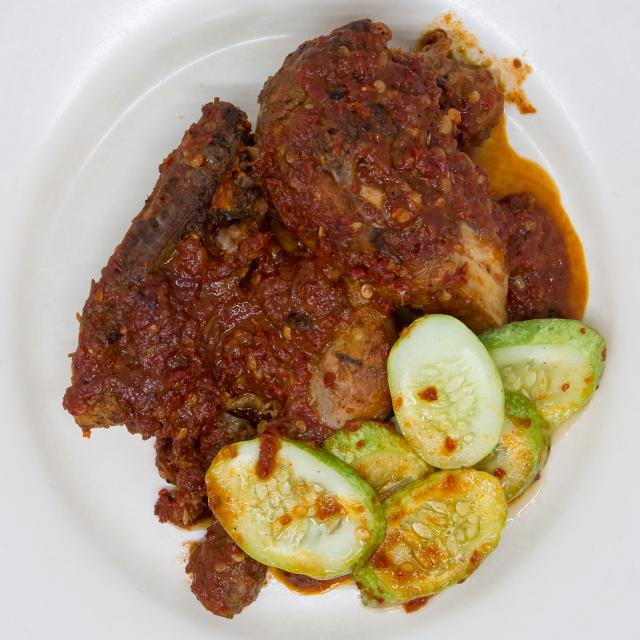Ayam-Bumbu-Rujak: (53, 18, 592, 617)
